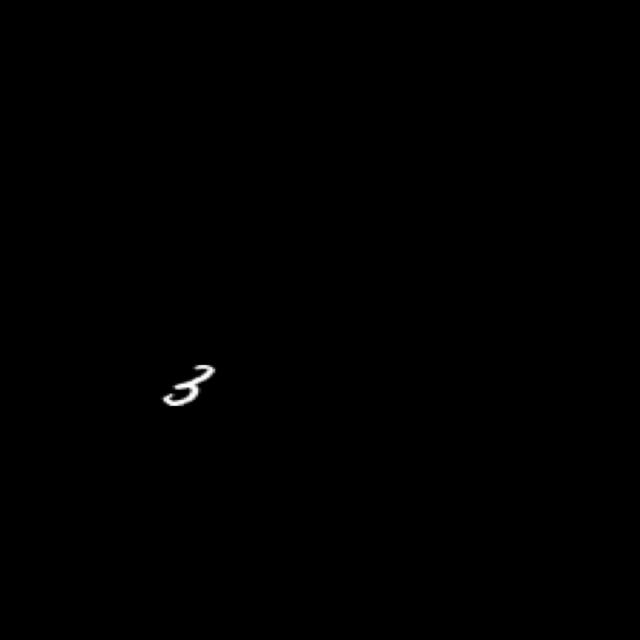three -3-: (151, 354, 230, 416)
